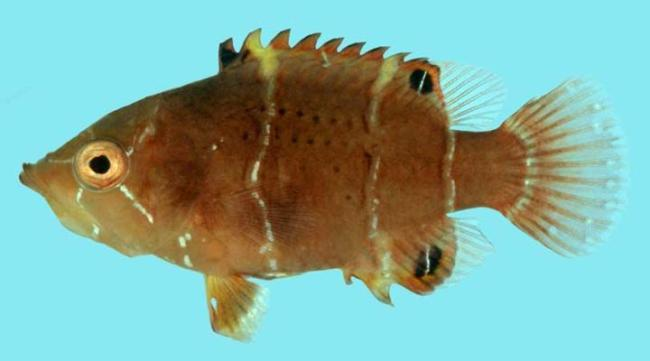fish: (19, 29, 627, 343)
